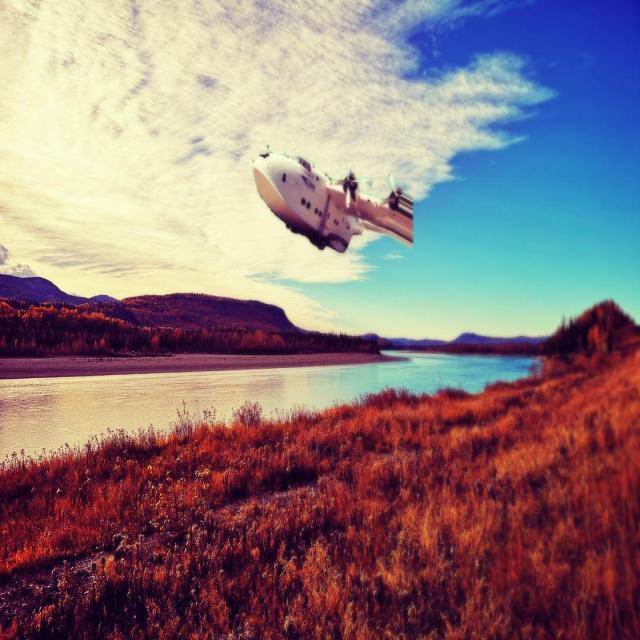airplane: (252, 144, 414, 254)
